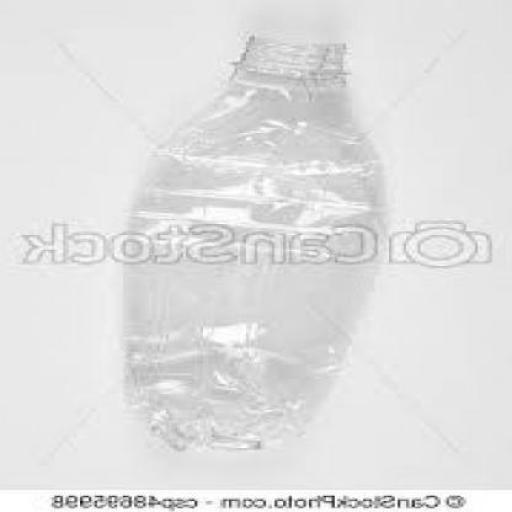plastic: (121, 30, 389, 452)
